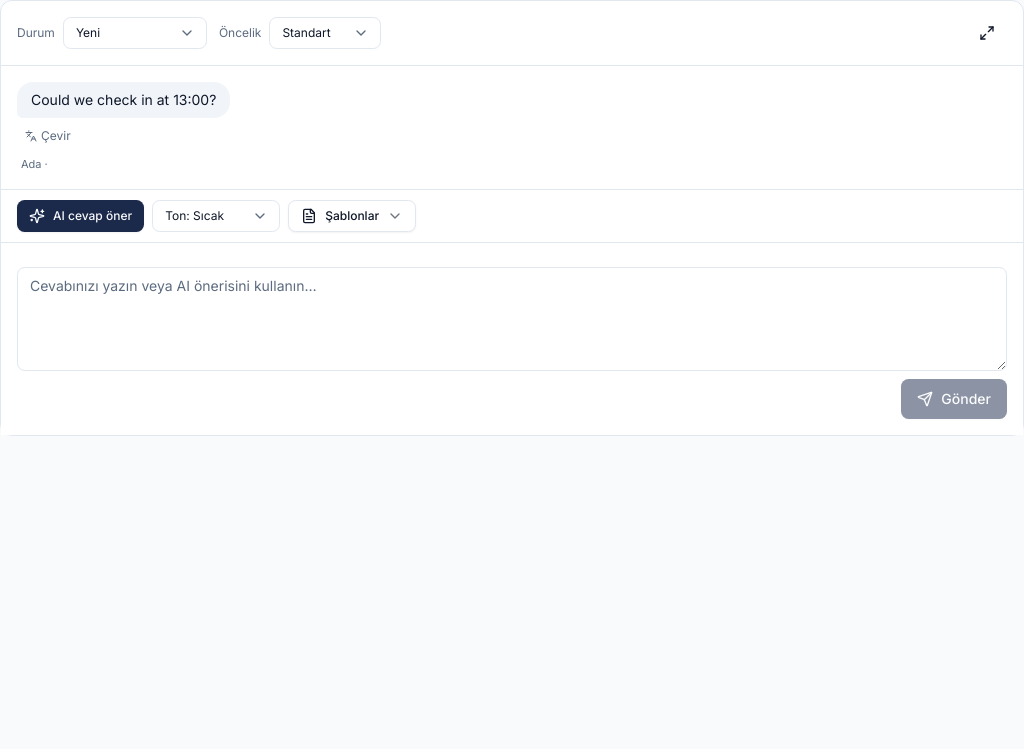
it: ConversationThread — erken giriş kontrol paneli › onaylanabilir ama uyarılı (ör. başka güne işaret): 'Kontroller uygun' DENMEZ; hazır cevap uyarıyla birlikte
What coordinates should you click on to do the following:
click the button "AI cevap öner"
I would click on:
 (81, 216)
Its box is [17,200,144,232].
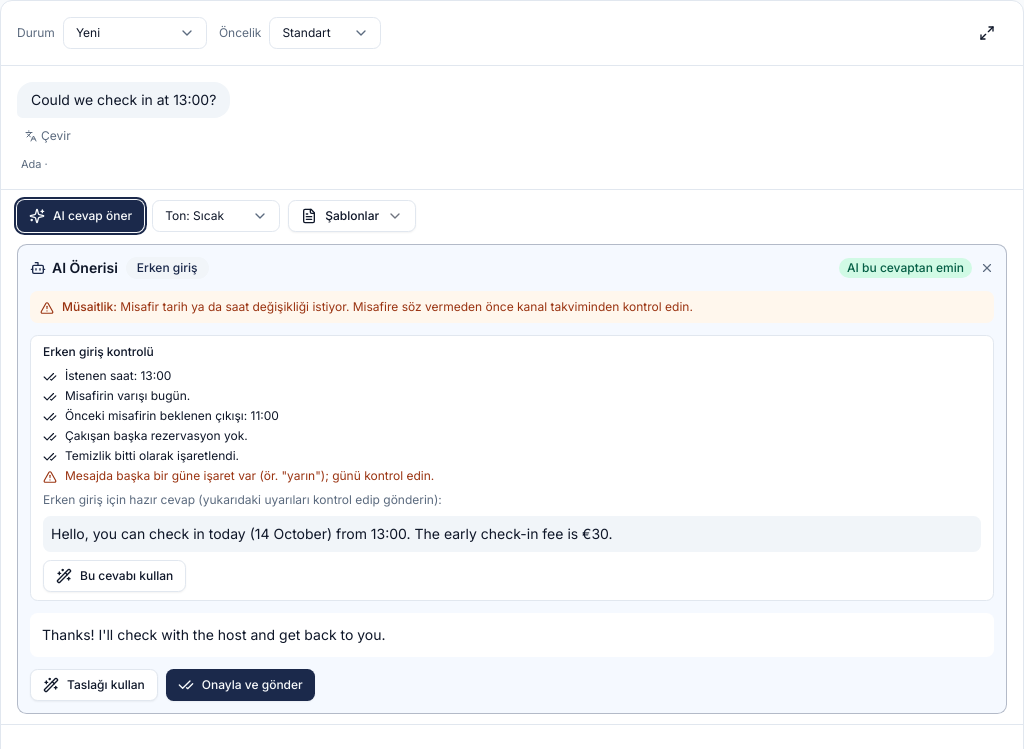
Result: the element with test id "early-checkin-panel" shows "Mesajda başka bir güne işaret var (ör. \"yarın\"); günü kontrol edin." at [65,468,434,482]
Result: the element with test id "early-checkin-draft" shows "yukarıdaki uyarıları kontrol edip gönderin" at [43,492,442,506]
